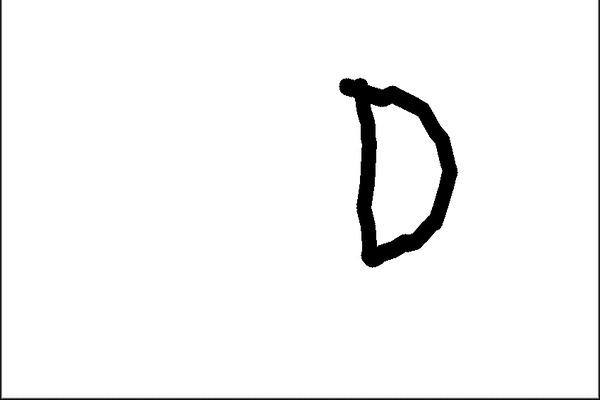D: (334, 72, 461, 272)
